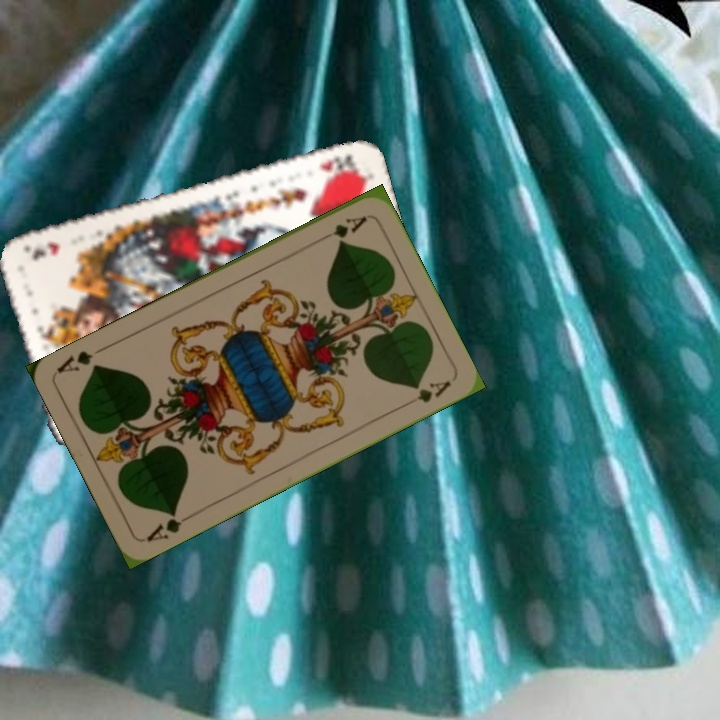GA: (142, 506, 196, 544), (314, 212, 370, 243)
HK: (314, 150, 357, 175)
